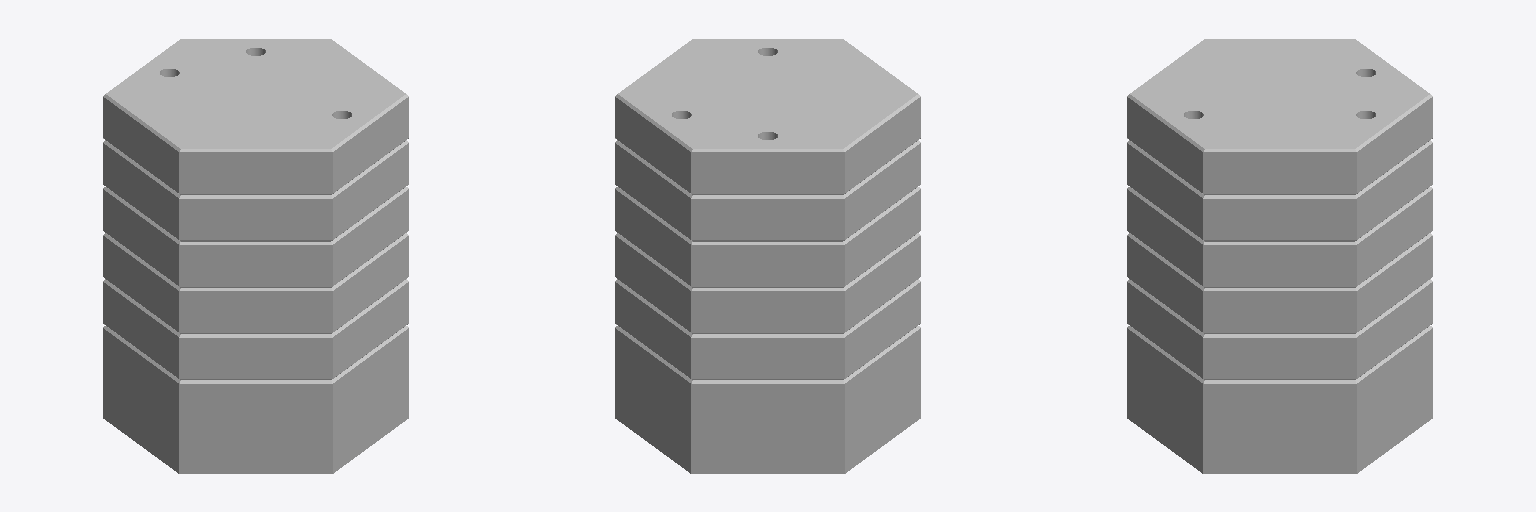
The model's file is lvl6D.obj.
3 views of the same model, side by side, from view 1: azimuth 30°, elevation 25°; view 2: azimuth 150°, elevation 25°; view 3: azimuth 270°, elevation 25° (orthographic).
Visible parts, largest first — view 1: Lvl6D-3_(Mono-NoMags); view 2: Lvl6D-3_(Mono-NoMags); view 3: Lvl6D-3_(Mono-NoMags).
Boxes of the visible parts, x1,y1,x2,y2 form: Lvl6D-3_(Mono-NoMags): [103, 39, 408, 473]; Lvl6D-3_(Mono-NoMags): [615, 39, 920, 473]; Lvl6D-3_(Mono-NoMags): [1127, 39, 1432, 473].
Size of the model in its own units: 3.13 by 4.22 by 3.62.